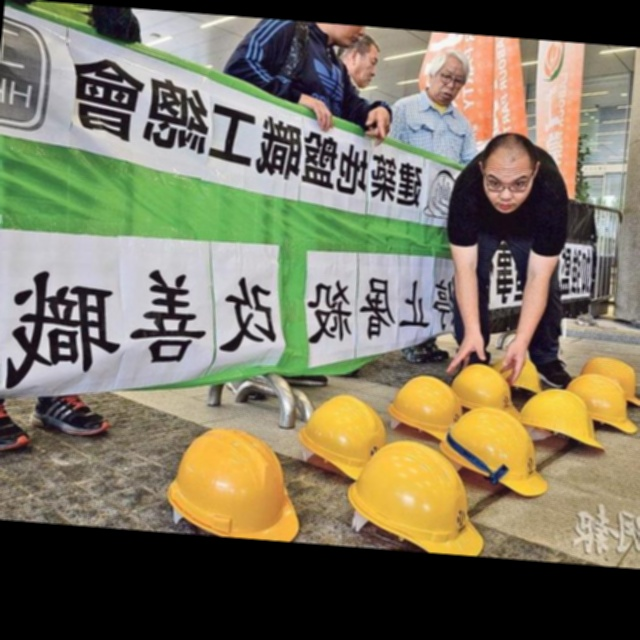Sin_Casco_Mascarrilla: (478, 131, 539, 213), (424, 48, 471, 106)
